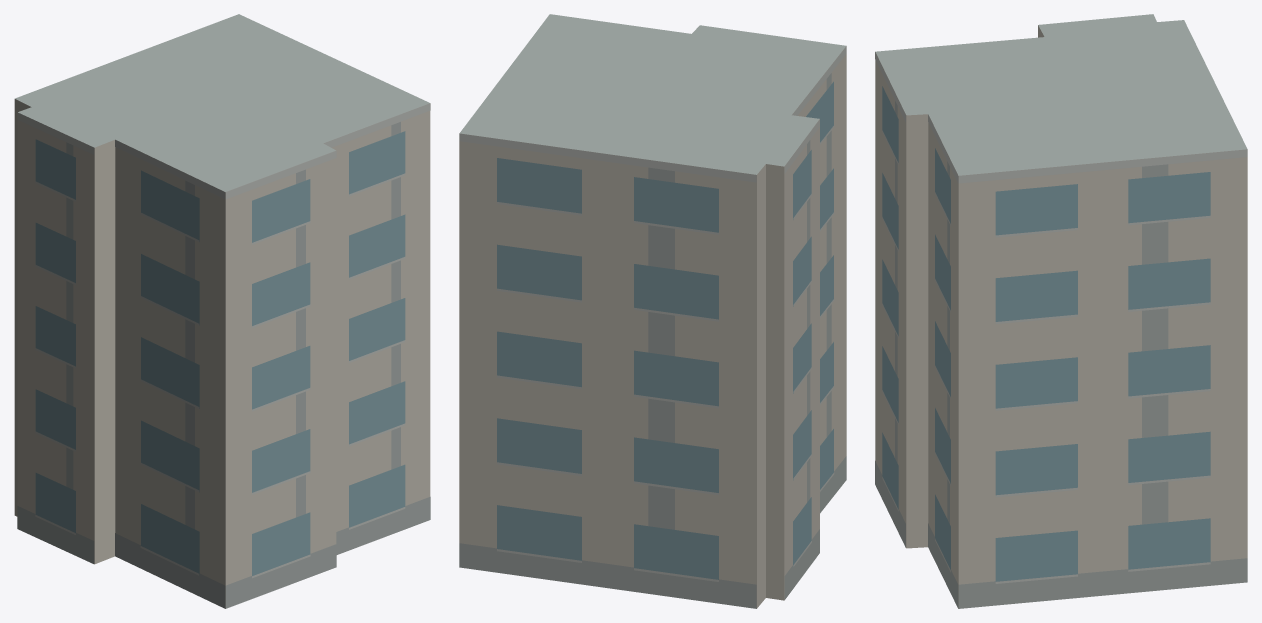
Rendered from survey-upis-32829000.glb.
3 views of the same model, side by side, from view 1: azimuth 30°, elevation 25°; view 2: azimuth 150°, elevation 25°; view 3: azimuth 270°, elevation 25° (orthographic). The views are drawn at different scales.
Visible parts, largest first — view 1: survey-upis-32829000.tmp; view 2: survey-upis-32829000.tmp; view 3: survey-upis-32829000.tmp.
Part boxes in pixels (<box>): survey-upis-32829000.tmp: <box>14,14,430,608</box>; survey-upis-32829000.tmp: <box>459,14,846,608</box>; survey-upis-32829000.tmp: <box>875,14,1247,608</box>.
Bounding box in the file's own units: 10.91 × 13.6 × 10.61.
